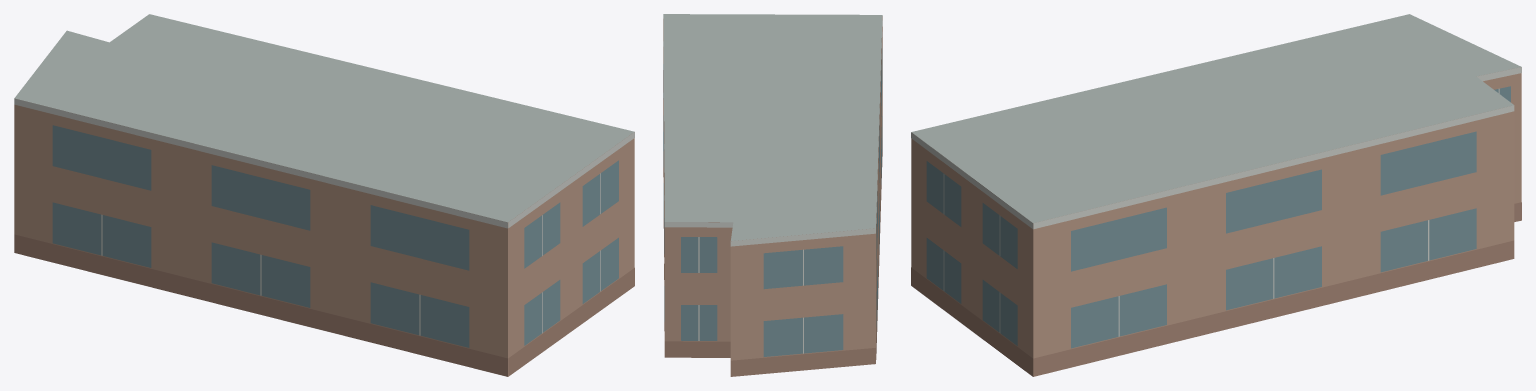
The model's file is survey-upis-32674811.glb.
3 renders of one model, left to right at view 1: azimuth 30°, elevation 25°; view 2: azimuth 150°, elevation 25°; view 3: azimuth 270°, elevation 25°, orthographic. The views are drawn at different scales.
Visible parts, largest first — view 1: survey-upis-32674811.tmp; view 2: survey-upis-32674811.tmp; view 3: survey-upis-32674811.tmp.
Boxes of the visible parts, box(x1,y1,x2,y2) form: survey-upis-32674811.tmp: box(14, 14, 634, 376); survey-upis-32674811.tmp: box(663, 14, 882, 376); survey-upis-32674811.tmp: box(911, 14, 1521, 376).
Bounding box in the file's own units: 17.83 × 6.1 × 21.98.
